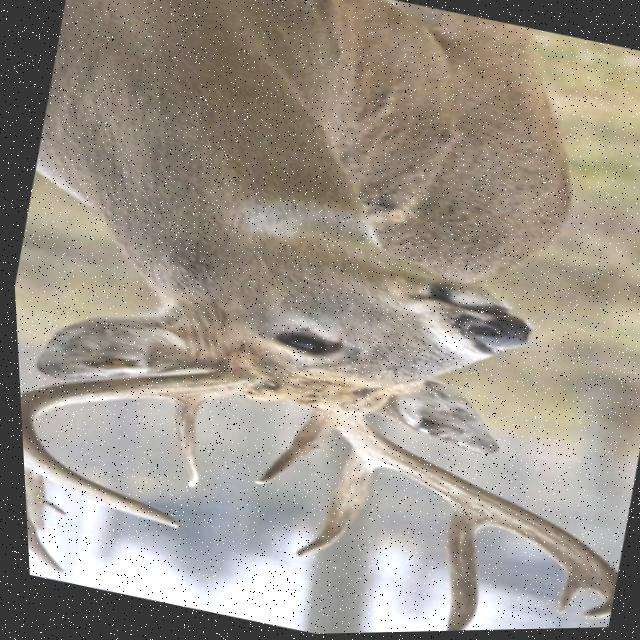L-F: (16, 367, 258, 530)
L-G1: (164, 400, 203, 491)
L-G4: (19, 464, 40, 534)
R-F: (315, 409, 612, 624)
R-G1: (246, 408, 331, 487)
R-G2: (287, 446, 379, 560)
R-G3: (434, 505, 490, 633)
R-G4: (545, 573, 586, 619)
